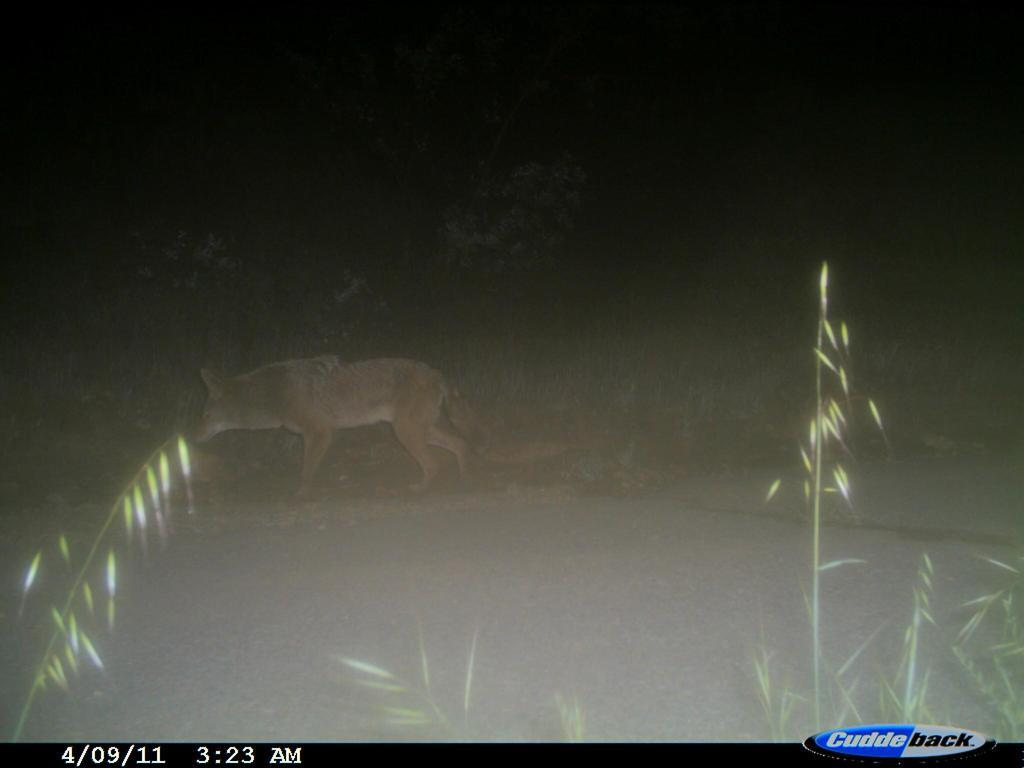coyote: (189, 349, 500, 497)
